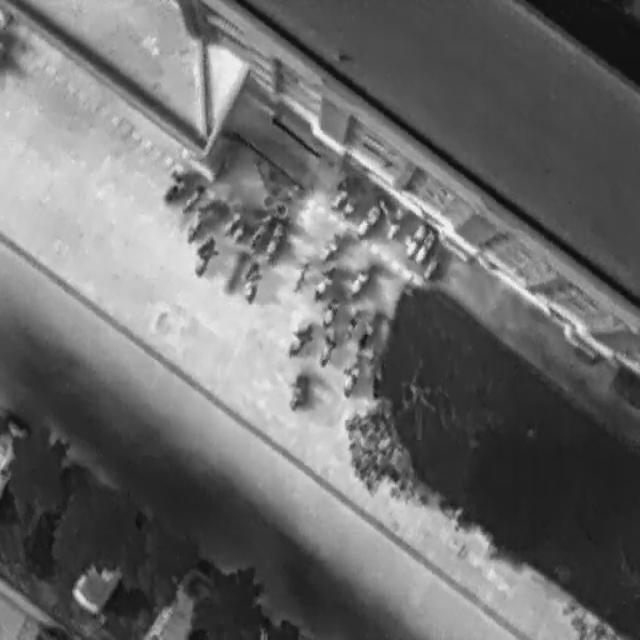Bicycle: (281, 316, 316, 362), (351, 198, 384, 238), (400, 215, 429, 256), (410, 226, 439, 266), (239, 256, 263, 304), (285, 368, 310, 414), (312, 327, 339, 368), (316, 291, 345, 329), (262, 219, 289, 259), (176, 178, 207, 212), (308, 264, 338, 298), (316, 232, 344, 266), (292, 254, 311, 290), (347, 269, 369, 296)
